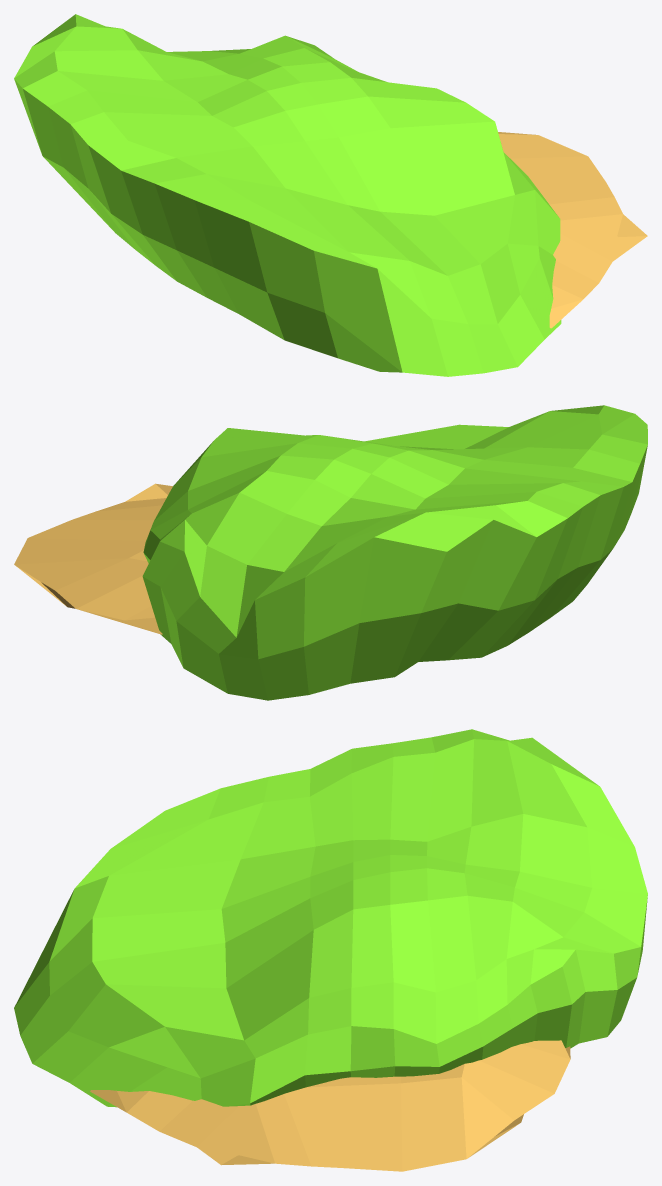
The model's file is SM_Island_2.fbx.
The picture shows the model from 3 angles, top to bottom: view 1: azimuth 30°, elevation 25°; view 2: azimuth 150°, elevation 25°; view 3: azimuth 270°, elevation 25°; orthographic projection. The views are drawn at different scales.
Visible parts, largest first — view 1: Cube, Cube.001; view 2: Cube, Cube.001; view 3: Cube, Cube.001.
Boxes of the visible parts, <box> form: Cube: <box>14,14,561,376</box>; Cube.001: <box>498,132,647,328</box>; Cube: <box>142,405,647,700</box>; Cube.001: <box>14,483,172,634</box>; Cube: <box>14,729,647,1107</box>; Cube.001: <box>90,1040,570,1171</box>.
Bounding box in the file's own units: 622 × 232 × 627.
